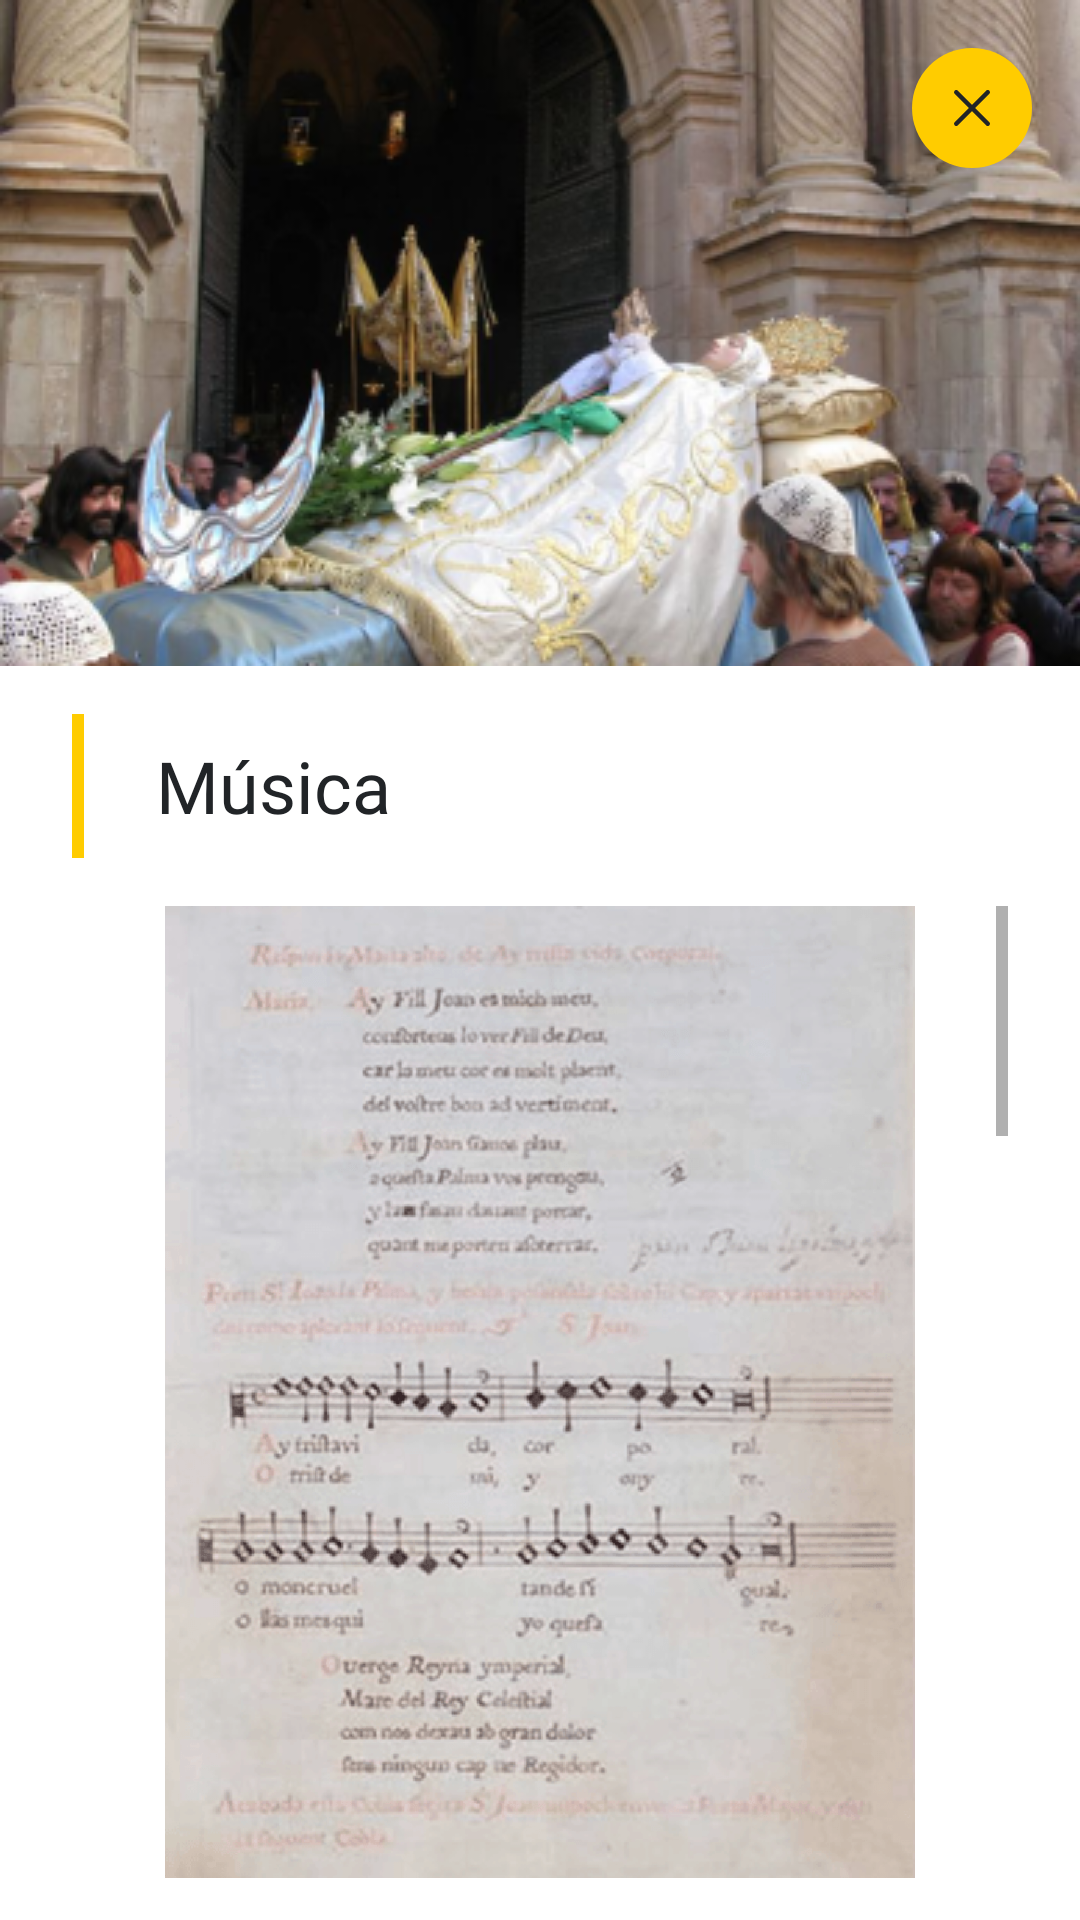

Point at icon controls on the screen. Image size 1080 x 1920, points as (x=x, y=y).
iconoir cancel: (x=972, y=108)
